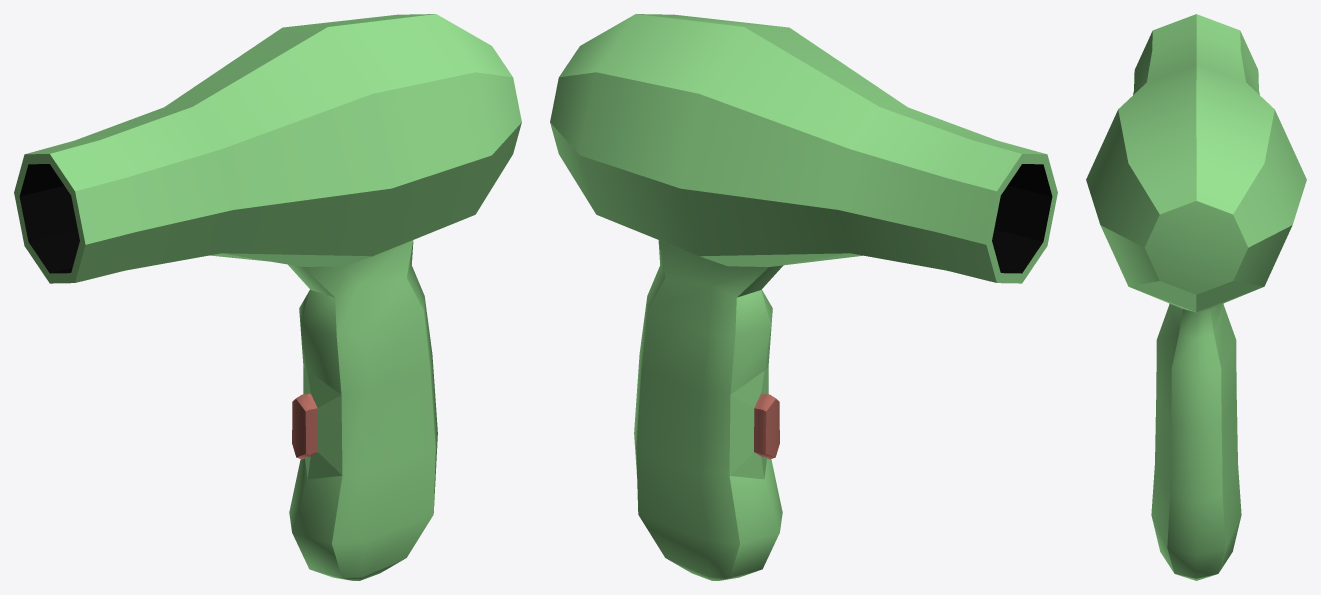
The model's file is GGJ_wc_phon.fbx.
3 views of the same model, side by side, from view 1: azimuth 30°, elevation 25°; view 2: azimuth 150°, elevation 25°; view 3: azimuth 270°, elevation 25° (orthographic). The views are drawn at different scales.
Parts seen in each view (by area): view 1: phon, phon_button; view 2: phon, phon_button; view 3: phon.
Boxes of the visible parts, x1,y1,x2,y2 form: phon: [14, 14, 521, 580]; phon_button: [292, 393, 317, 459]; phon: [550, 14, 1057, 580]; phon_button: [754, 393, 779, 459]; phon: [1086, 14, 1306, 580].
Bounding box in the file's own units: 0.00237 × 0.00279 × 0.00116.
